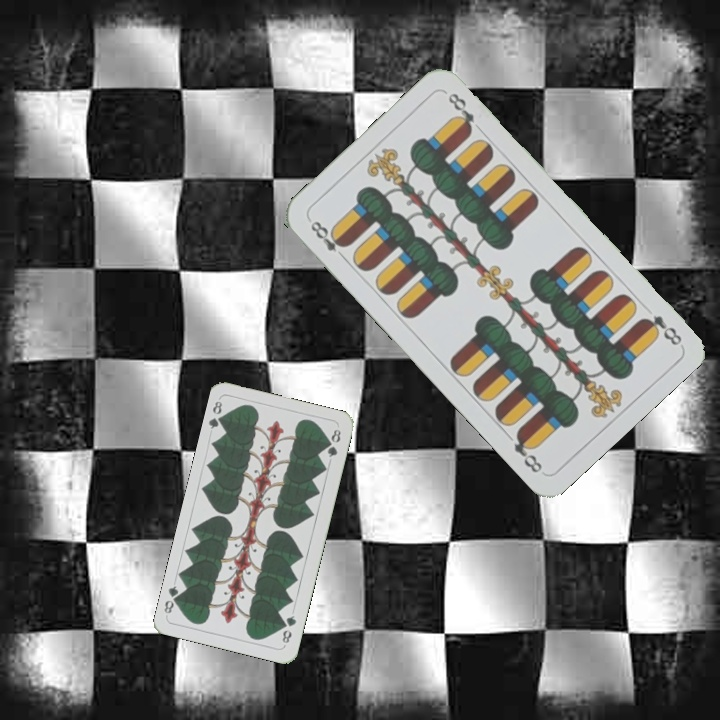E8: (306, 216, 350, 263), (637, 311, 685, 348)
G8: (205, 397, 228, 432), (278, 611, 299, 646)
